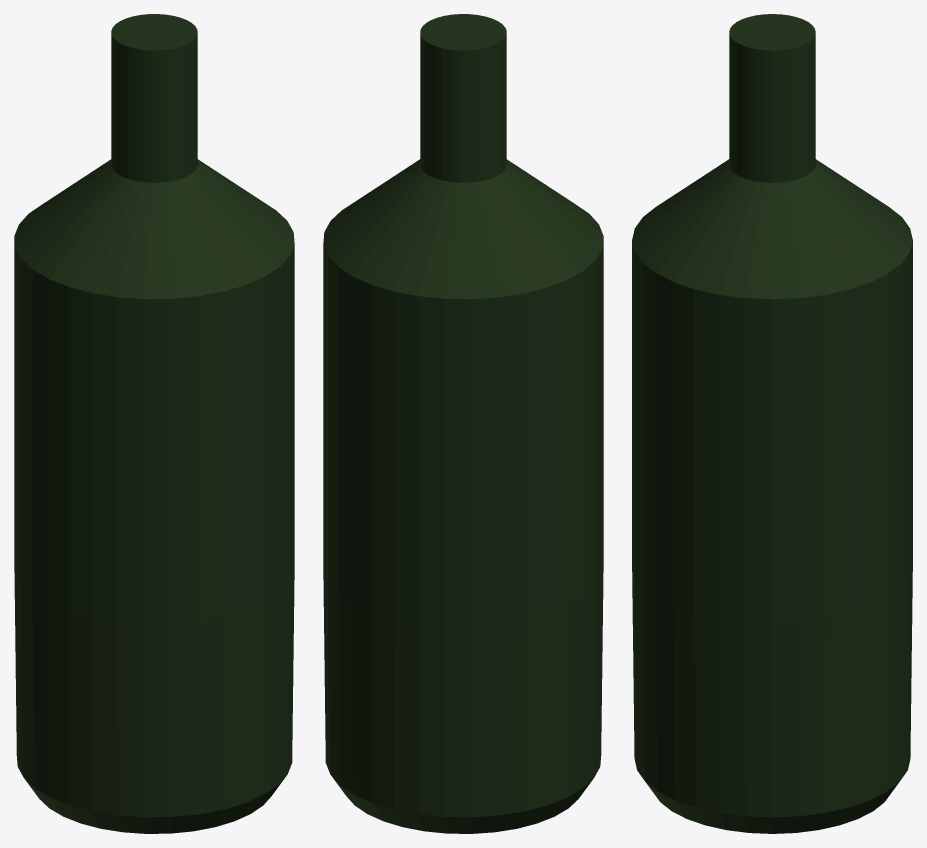
The model's file is бутылка бармена.fbx.
3 renders of one model, left to right at view 1: azimuth 30°, elevation 25°; view 2: azimuth 150°, elevation 25°; view 3: azimuth 270°, elevation 25°, orthographic.
Visible parts, largest first — view 1: Cylinder; view 2: Cylinder; view 3: Cylinder.
Part boxes in pixels (<box>): Cylinder: <box>14,14,294,833</box>; Cylinder: <box>323,14,603,833</box>; Cylinder: <box>632,14,912,833</box>.
Size of the model in its own units: 14.31 by 42.19 by 14.31.
